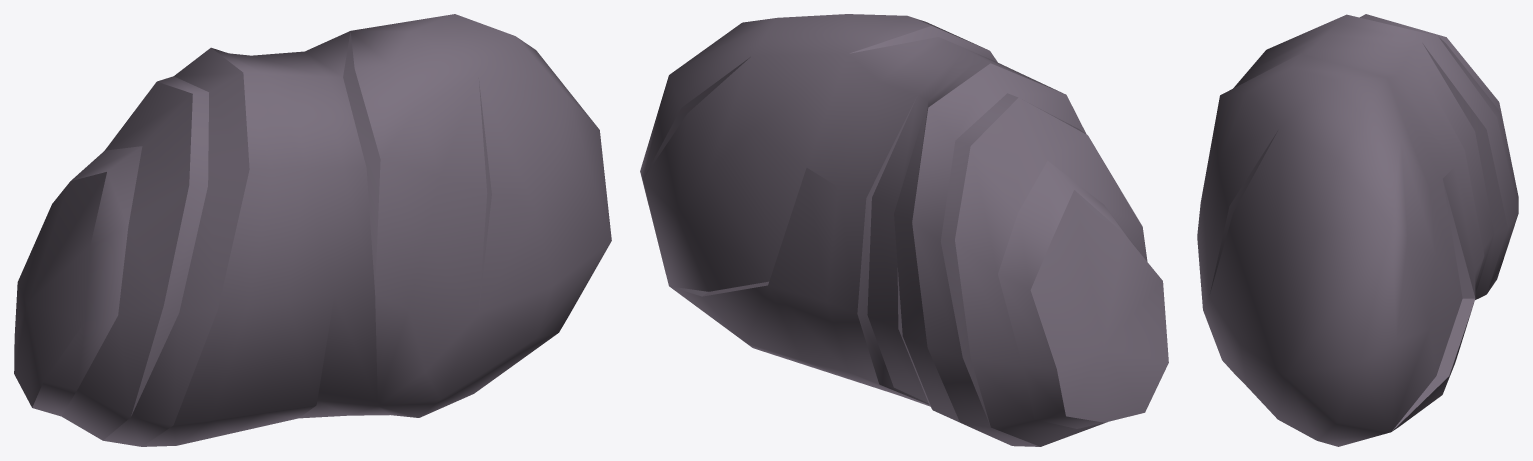
Rendered from P_stone_04_LD.fbx.
3 renders of one model, left to right at view 1: azimuth 30°, elevation 25°; view 2: azimuth 150°, elevation 25°; view 3: azimuth 270°, elevation 25°, orthographic. The views are drawn at different scales.
Visible parts, largest first — view 1: P_stone_04; view 2: P_stone_04; view 3: P_stone_04.
Boxes of the visible parts, x1,y1,x2,y2 form: P_stone_04: (14, 14, 611, 446); P_stone_04: (640, 14, 1168, 446); P_stone_04: (1197, 14, 1518, 446).
Size of the model in its own units: 814 by 508 by 438.
1 material, 1 textured.
